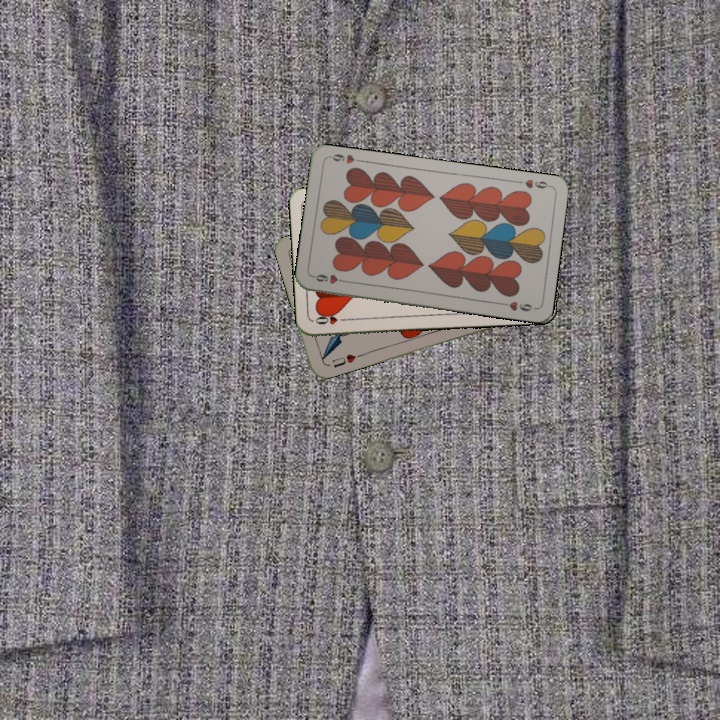H9: (310, 270, 350, 287), (513, 175, 553, 191)
HO: (311, 311, 351, 327)
HU: (328, 350, 363, 370)
